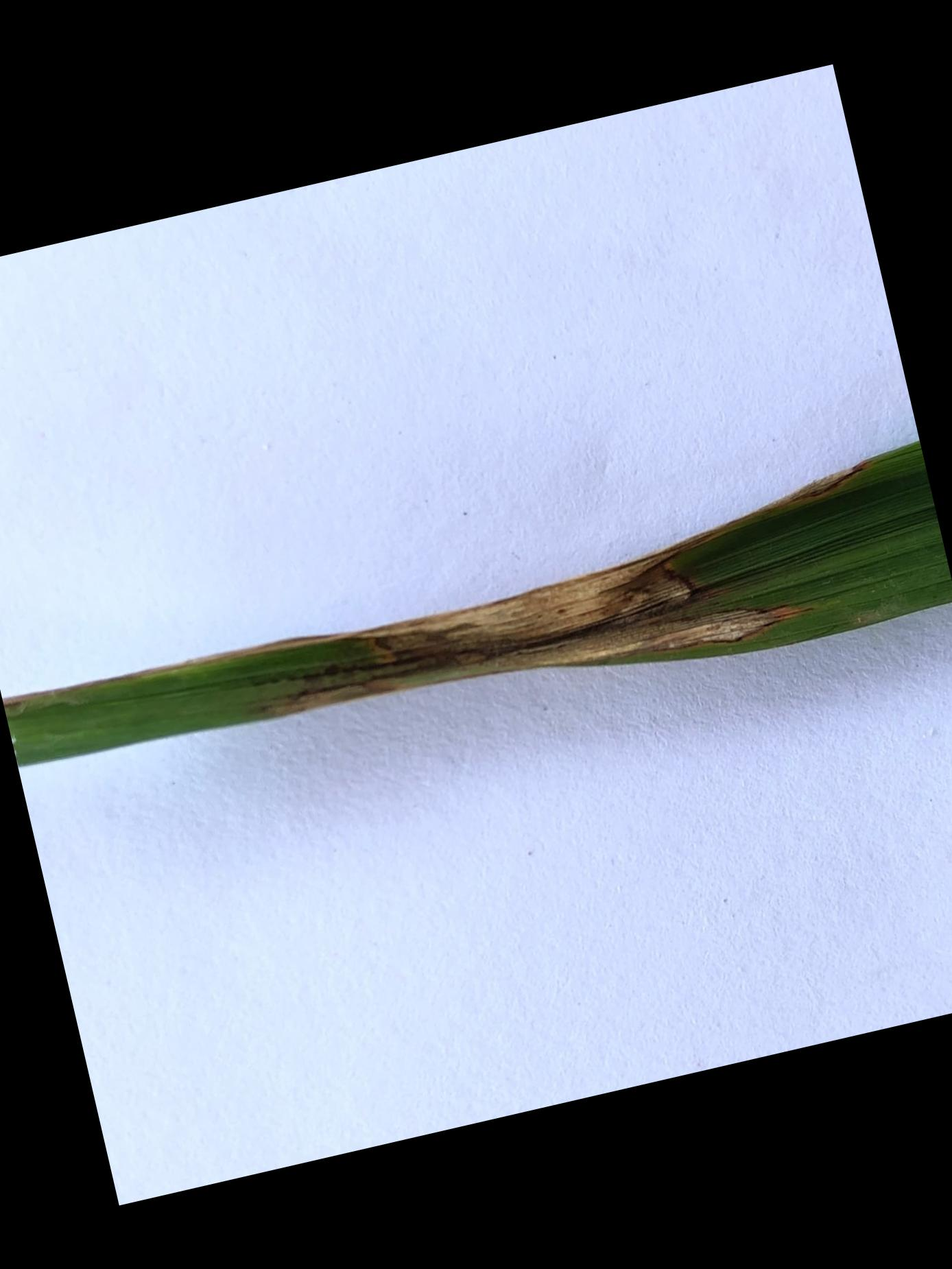Leaf Blight: (2, 464, 866, 708)
